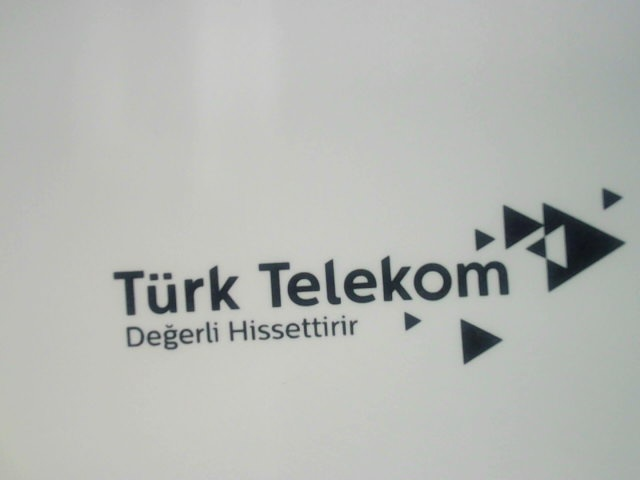AQ_TURKTelekom: (97, 183, 625, 368)
